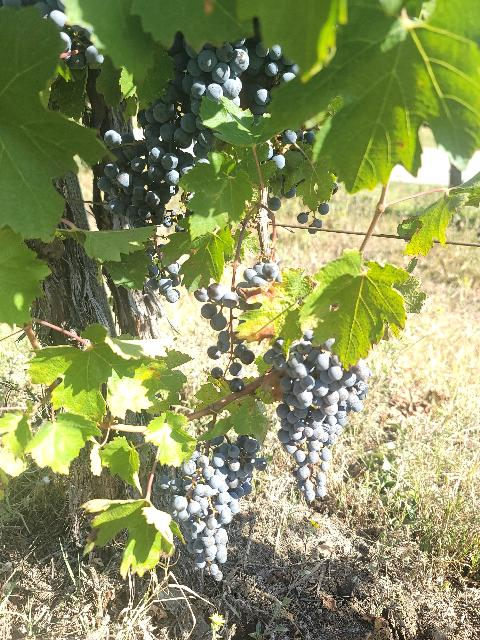grapes: (271, 330, 371, 501), (154, 446, 232, 580), (195, 262, 281, 360), (99, 131, 184, 229), (212, 435, 259, 499), (145, 231, 181, 302)
